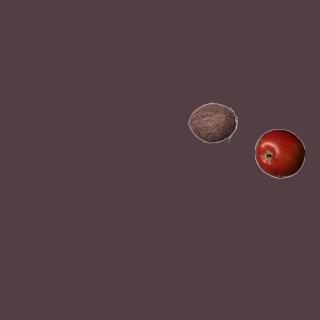Apple Braeburn: (254, 128, 304, 178)
Cocos: (187, 97, 237, 147)
